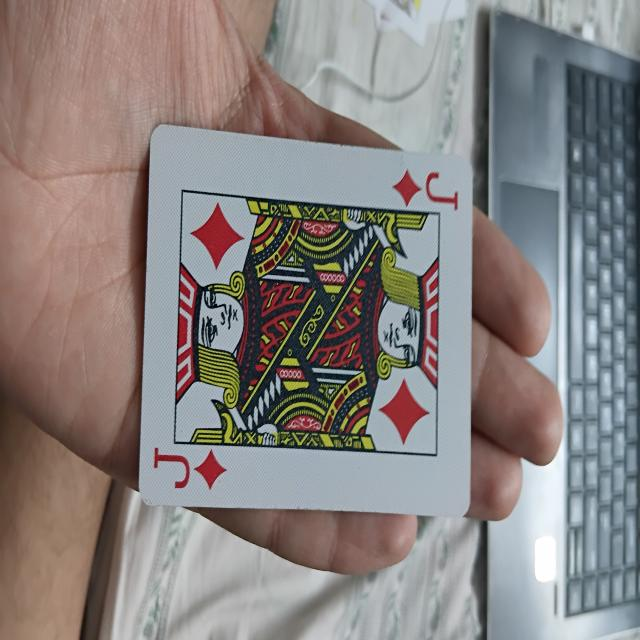JD: (150, 131, 470, 521)
